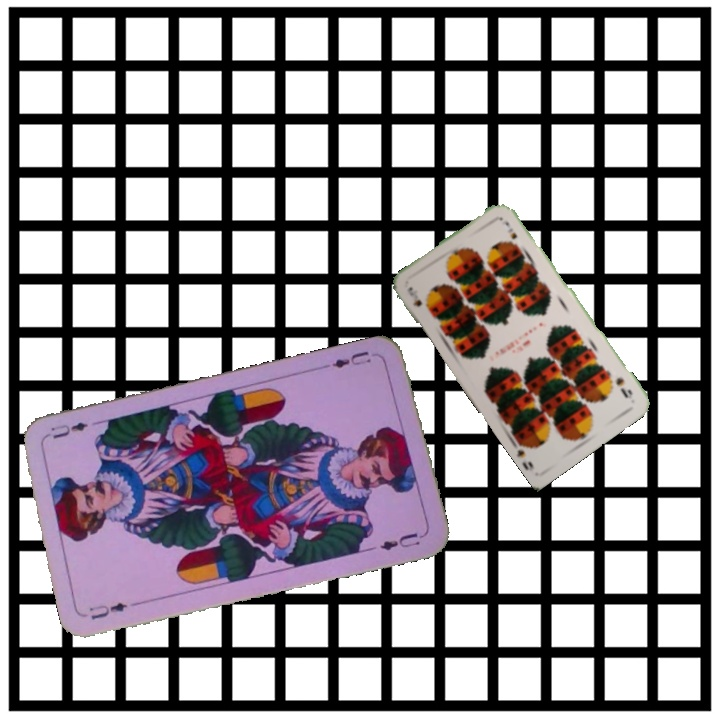EU: (328, 347, 382, 371), (85, 598, 130, 623)
S9: (612, 373, 635, 401), (403, 283, 424, 309)
